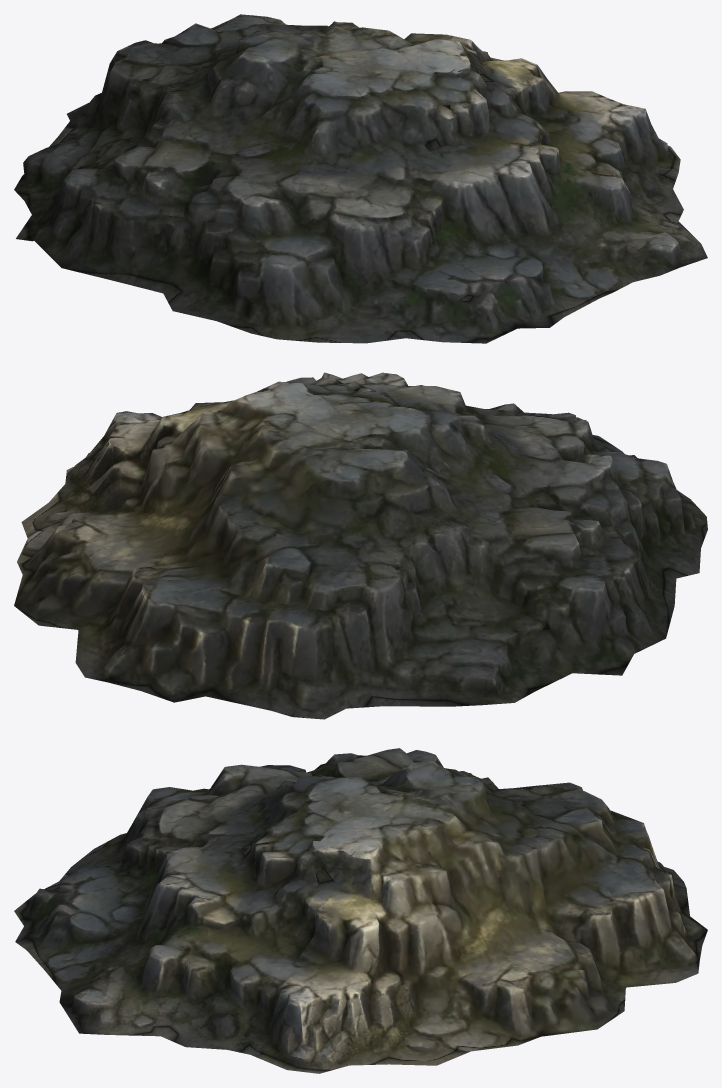
The model's file is mountain-3.glb.
The picture shows the model from 3 angles, top to bottom: view 1: azimuth 30°, elevation 25°; view 2: azimuth 150°, elevation 25°; view 3: azimuth 270°, elevation 25°; orthographic projection. The views are drawn at different scales.
Visible parts, largest first — view 1: geometry_0; view 2: geometry_0; view 3: geometry_0.
Part boxes in pixels (left/top/right/bottom): geometry_0: left=14, top=14, right=707, bottom=343; geometry_0: left=14, top=372, right=707, bottom=719; geometry_0: left=14, top=748, right=707, bottom=1073.
Size of the model in its own units: 0.9196 by 0.2113 by 0.9644.
1 material, 1 textured.
